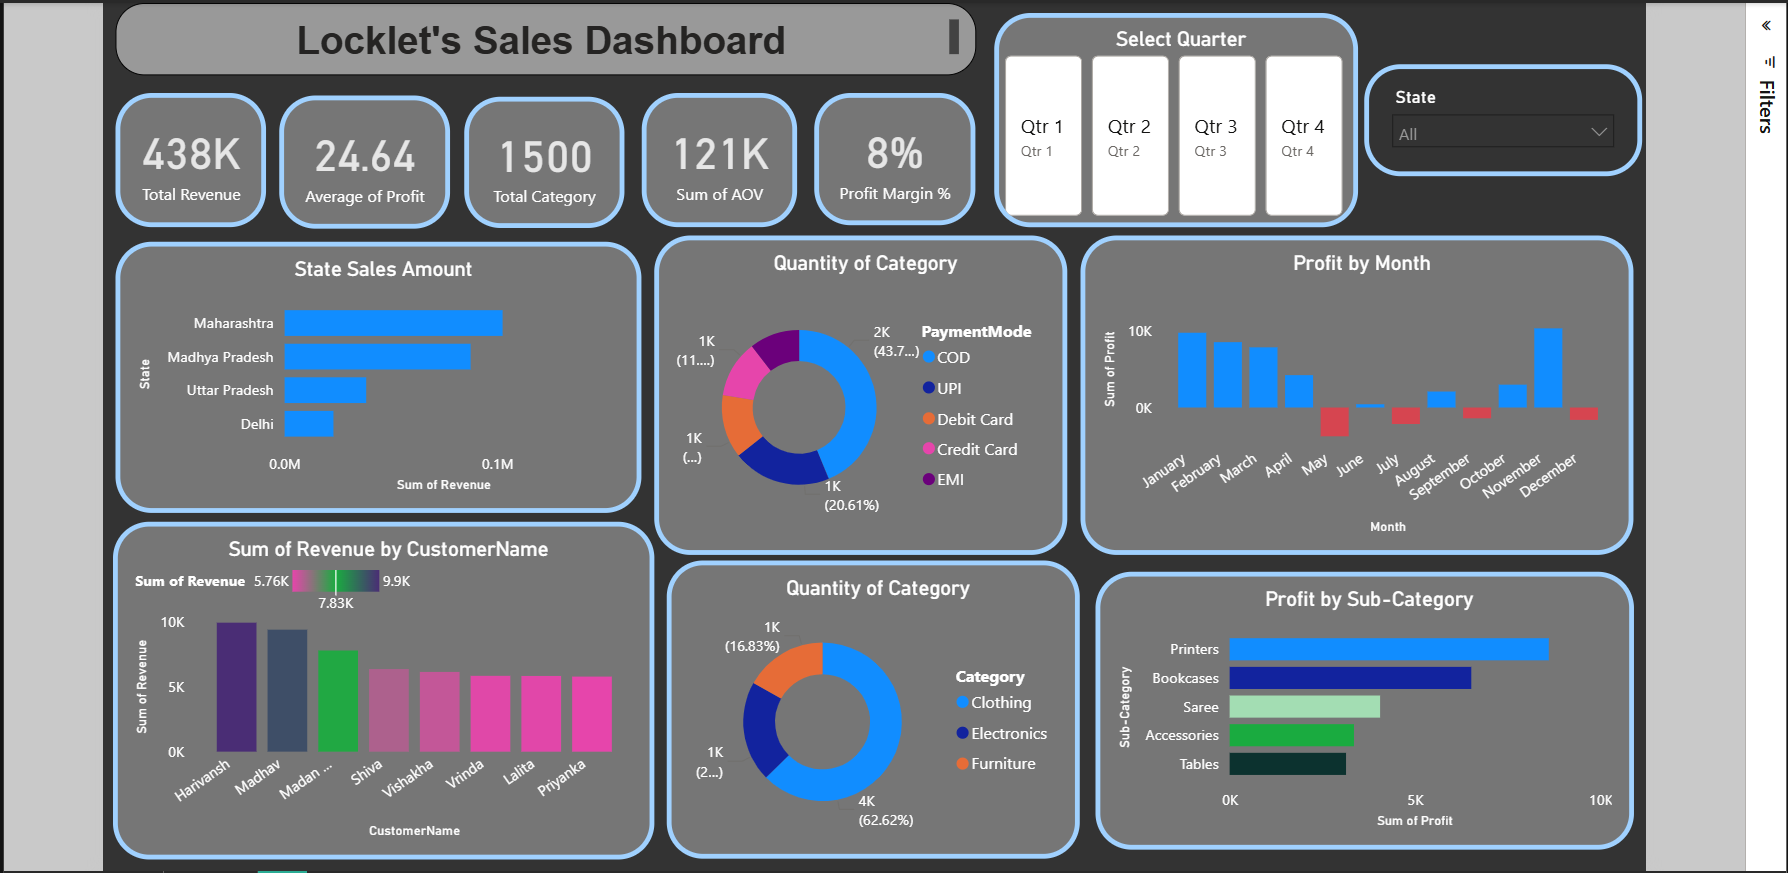

This screenshot's page, from the dashboard's own definition file:
{"tool":"powerbi","page":{"name":"Page 1","canvas":[1280,720],"ordinal":0},"visuals":[{"type":"textbox","box":[10,0,713.8,60],"z":0},{"type":"donutChart","title":"Quantity of Category","fields":{"Category":["Details.Category"],"Y":["Sum(Details.Quantity)"]},"box":[467.5,462.5,342.5,247.5],"z":1000},{"type":"clusteredColumnChart","title":"Profit by Month","fields":{"Y":["Sum(Details.Profit)"],"Category":["Orders.Order Date.Variation.Date Hierarchy.Month"]},"box":[810,192.5,458.8,265],"z":2000},{"type":"barChart","title":"Profit by Sub-Category","fields":{"Category":["Details.Sub-Category"],"Y":["Sum(Details.Profit)"]},"box":[822.5,471.2,446.2,230],"z":3000},{"type":"donutChart","title":"Quantity of Category","fields":{"Y":["Sum(Details.Quantity)"],"Category":["Details.PaymentMode"]},"box":[457.5,192.5,342.5,265],"z":4000},{"type":"card","fields":{"Values":["Sum(Details.Amount)"]},"box":[10,75,125,111.2],"z":5000},{"type":"card","fields":{"Values":["Avg(Details.Profit)"]},"box":[146.2,76.2,141.2,110],"z":6000},{"type":"card","fields":{"Values":["CountNonNull(Details.Category)"]},"box":[300,77.5,132.5,108.8],"z":7000},{"type":"card","fields":{"Values":["Sum(Details.AOV)"]},"box":[446.2,75,128.8,111.2],"z":8000},{"type":"barChart","title":"State Sales Amount","fields":{"Category":["Orders.State"],"Y":["Sum(Details.Amount)"]},"box":[10,197.5,436.2,225],"z":9000},{"type":"columnChart","fields":{"Category":["Orders.CustomerName"],"Y":["Sum(Details.Amount)"]},"box":[8.8,430,448.8,280],"z":10000},{"type":"advancedSlicerVisual","title":"Select Quarter","fields":{"Values":["Orders.Order Date.Variation.Date Hierarchy.Quarter"],"Label":["Min(Orders.Order Date.Variation.Date Hierarchy.Quarter)"]},"box":[738.5,8.4,301.4,177.7],"z":11000},{"type":"slicer","fields":{"Values":["Orders.State"]},"box":[1045.4,51.2,230.2,93],"z":12000},{"type":"card","fields":{"Values":["Details.Profit Margin %"]},"box":[589.6,74.4,133.3,109.3],"z":13000}]}

Visuals, with their boxes on the page's 1280x720 design canvas (x1, y1, x2, y2). These are canvas units, not pixel positions in the 1788x873 screenshot, which may show the page scaled, cropped or inside an application window:
textbox: {"left": 10, "top": 0, "right": 724, "bottom": 60}
"Quantity of Category" donutChart: {"left": 468, "top": 462, "right": 810, "bottom": 710}
"Profit by Month" clusteredColumnChart: {"left": 810, "top": 192, "right": 1269, "bottom": 458}
"Profit by Sub-Category" barChart: {"left": 822, "top": 471, "right": 1269, "bottom": 701}
"Quantity of Category" donutChart: {"left": 458, "top": 192, "right": 800, "bottom": 458}
card - Sum(Details.Amount): {"left": 10, "top": 75, "right": 135, "bottom": 186}
card - Avg(Details.Profit): {"left": 146, "top": 76, "right": 287, "bottom": 186}
card - CountNonNull(Details.Category): {"left": 300, "top": 78, "right": 432, "bottom": 186}
card - Sum(Details.AOV): {"left": 446, "top": 75, "right": 575, "bottom": 186}
"State Sales Amount" barChart: {"left": 10, "top": 198, "right": 446, "bottom": 422}
columnChart - Orders.CustomerName x Sum(Details.Amount): {"left": 9, "top": 430, "right": 458, "bottom": 710}
"Select Quarter" advancedSlicerVisual: {"left": 738, "top": 8, "right": 1040, "bottom": 186}
slicer - Orders.State: {"left": 1045, "top": 51, "right": 1276, "bottom": 144}
card - Details.Profit Margin %: {"left": 590, "top": 74, "right": 723, "bottom": 184}
